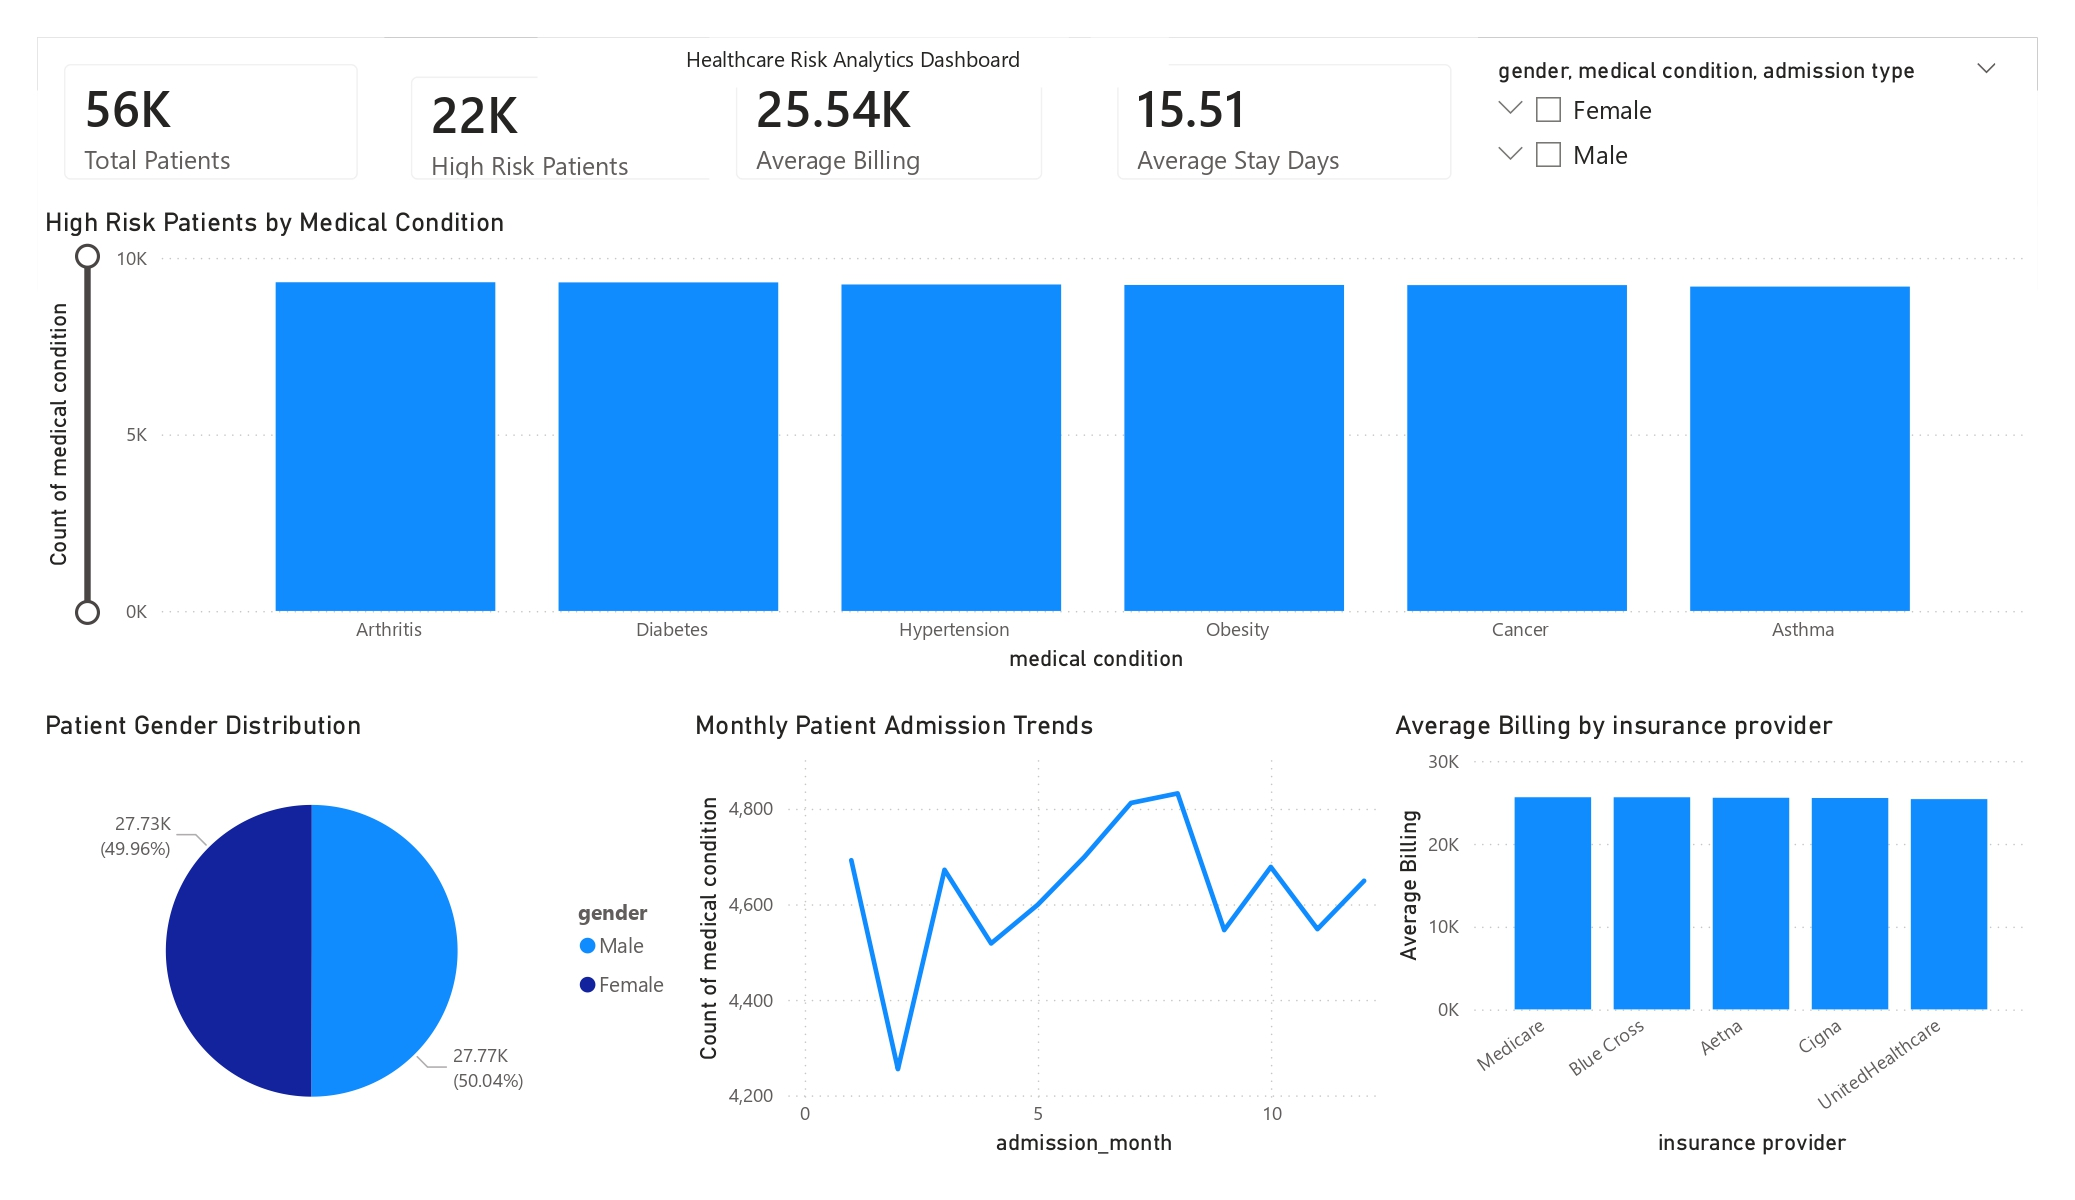

The dashboard page shown, as its layout file describes it:
{"tool":"powerbi","page":{"name":"Page 1","canvas":[1280,720],"ordinal":0},"visuals":[{"type":"clusteredColumnChart","title":"High Risk Patients by Medical Condition","fields":{"Y":["CountNonNull(civicpulse_final_healthcare_analysis.medical condition)"],"Category":["civicpulse_final_healthcare_analysis.medical condition"]},"box":[0,108,1280,302],"z":0},{"type":"pieChart","title":"Patient Gender Distribution","fields":{"Category":["civicpulse_final_healthcare_analysis.gender"],"Y":["CountNonNull(civicpulse_final_healthcare_analysis.gender)"]},"box":[0,430,416,290],"z":1000},{"type":"lineChart","title":"Monthly Patient Admission Trends","fields":{"Category":["civicpulse_final_healthcare_analysis.admission_month"],"Y":["CountNonNull(civicpulse_final_healthcare_analysis.medical condition)"]},"box":[416,430,448,290],"z":2000},{"type":"cardVisual","fields":{"Data":["civicpulse_final_healthcare_analysis.High Risk Patients"]},"box":[222,8,244,100],"z":3000},{"type":"cardVisual","fields":{"Data":["civicpulse_final_healthcare_analysis.Total Patients"]},"box":[0,0,222,108],"z":4000},{"type":"cardVisual","fields":{"Data":["civicpulse_final_healthcare_analysis.Average Billing"]},"box":[430,0,230,108],"z":5000},{"type":"cardVisual","fields":{"Data":["civicpulse_final_healthcare_analysis.Average Stay Days"]},"box":[674,0,248,108],"z":6000},{"type":"slicer","fields":{"Values":["civicpulse_final_healthcare_analysis.gender","civicpulse_final_healthcare_analysis.medical condition","civicpulse_final_healthcare_analysis.admission type"]},"box":[922,8,344,124],"z":7000},{"type":"textbox","box":[320,0,404,32],"z":8000},{"type":"lineClusteredColumnComboChart","fields":{"Category":["civicpulse_final_healthcare_analysis.insurance provider"],"Y":["civicpulse_final_healthcare_analysis.Average Billing"]},"box":[864,430,416,290],"z":9000}]}

Visuals, with their boxes on the page's 1280x720 design canvas (x1, y1, x2, y2). These are canvas units, not pixel positions in the 2075x1200 screenshot, which may show the page scaled, cropped or inside an application window:
"High Risk Patients by Medical Condition" clusteredColumnChart: x1=0, y1=108, x2=1280, y2=410
"Patient Gender Distribution" pieChart: x1=0, y1=430, x2=416, y2=720
"Monthly Patient Admission Trends" lineChart: x1=416, y1=430, x2=864, y2=720
cardVisual - civicpulse_final_healthcare_analysis.High Risk Patients: x1=222, y1=8, x2=466, y2=108
cardVisual - civicpulse_final_healthcare_analysis.Total Patients: x1=0, y1=0, x2=222, y2=108
cardVisual - civicpulse_final_healthcare_analysis.Average Billing: x1=430, y1=0, x2=660, y2=108
cardVisual - civicpulse_final_healthcare_analysis.Average Stay Days: x1=674, y1=0, x2=922, y2=108
slicer - civicpulse_final_healthcare_analysis.gender x civicpulse_final_healthcare_analysis.medical condition: x1=922, y1=8, x2=1266, y2=132
textbox: x1=320, y1=0, x2=724, y2=32
lineClusteredColumnComboChart - civicpulse_final_healthcare_analysis.insurance provider x civicpulse_final_healthcare_analysis.Average Billing: x1=864, y1=430, x2=1280, y2=720
